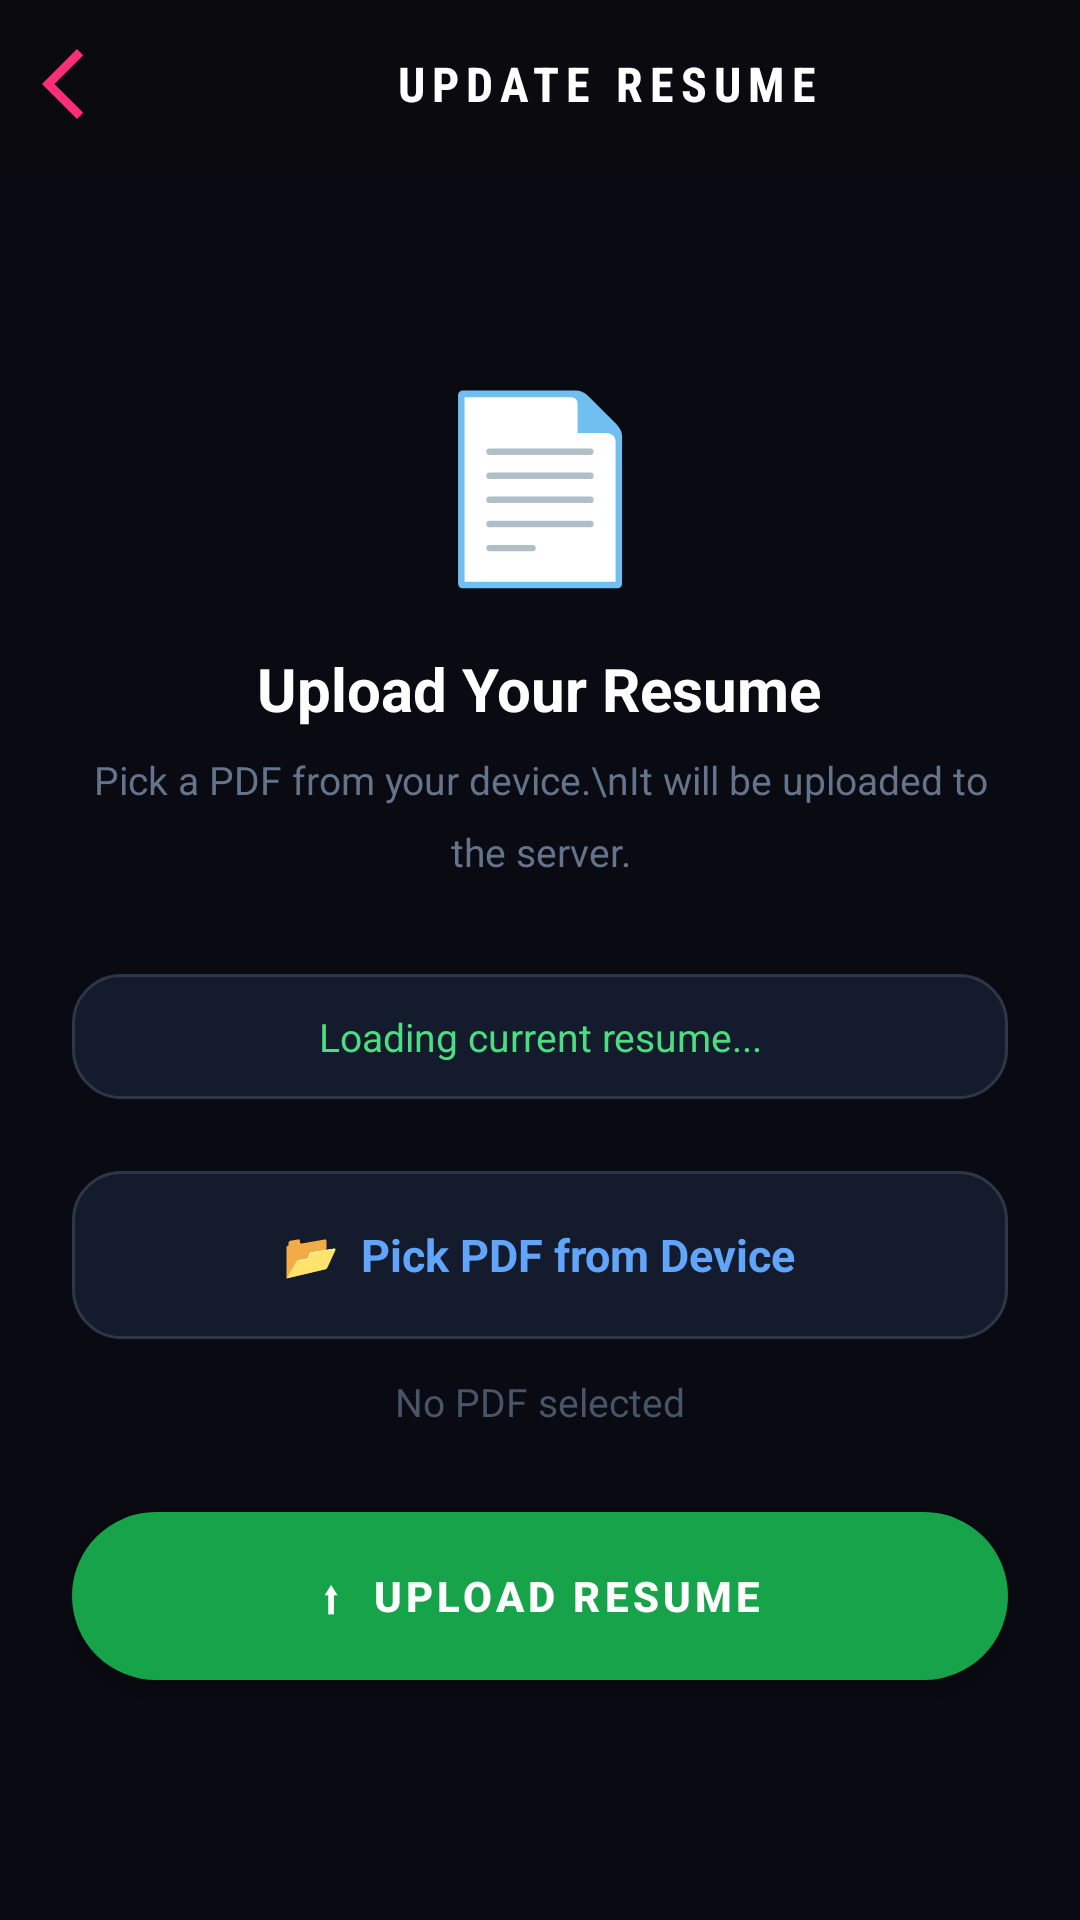

Where to tap for icons on this 1080px x 1920px app screen, as (x=x, y=y):
arrow back: (x=62, y=84)
